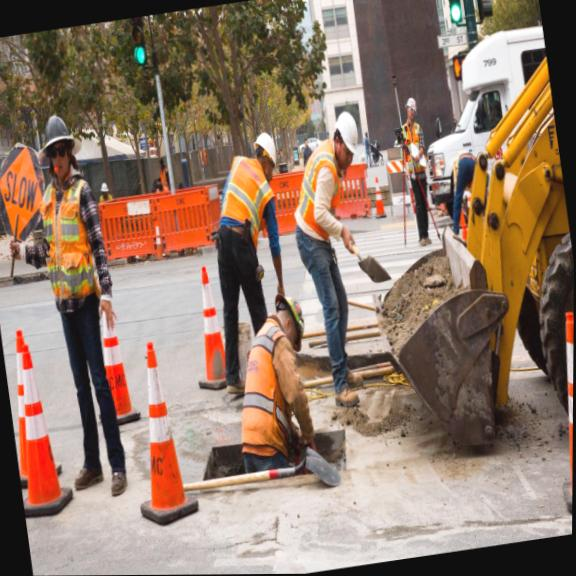safety_vest: (226, 311, 301, 455), (35, 166, 99, 304), (290, 130, 348, 242), (224, 152, 270, 236)
